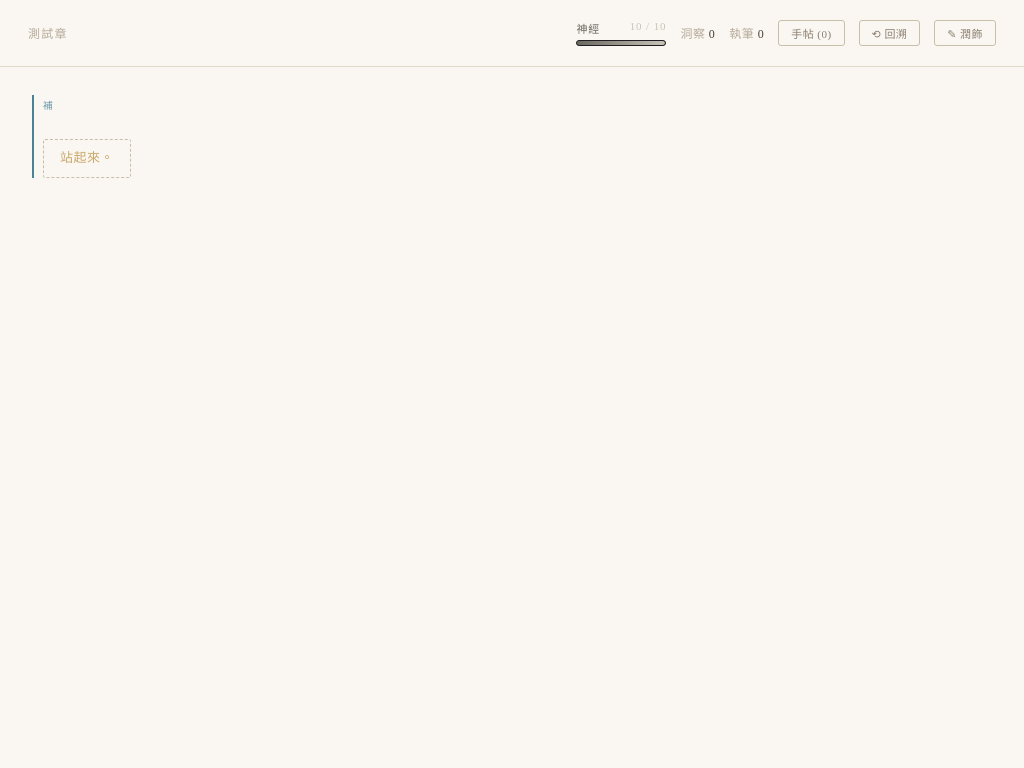
Test: HagurumaEngine — editMode 下 action/forced 不觸發互動 (Batch F6) › editing and saving an action prompt updates the WYSIWYG display
Expected: the element showing "站起來。" is shown, [32,95,992,178]
Click the button "✎ 潤飾": (965, 33) [934,20,996,46]
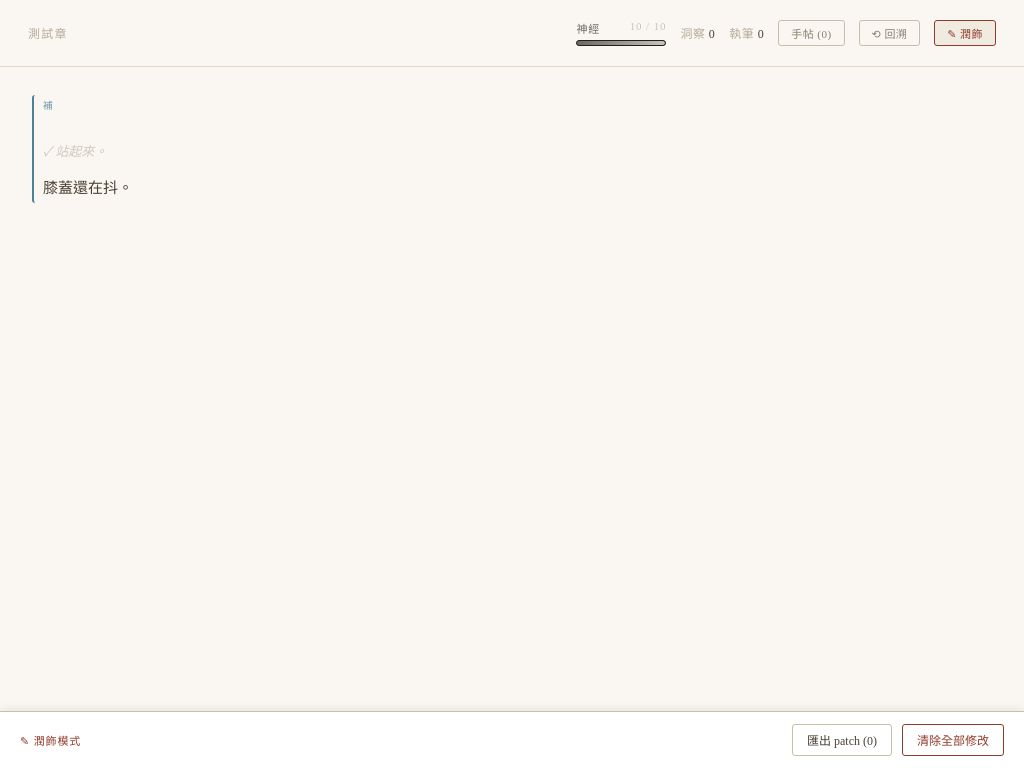
Click the element showing "✓ 站起來。 膝蓋還在抖。": (512, 149) [32,95,992,203]
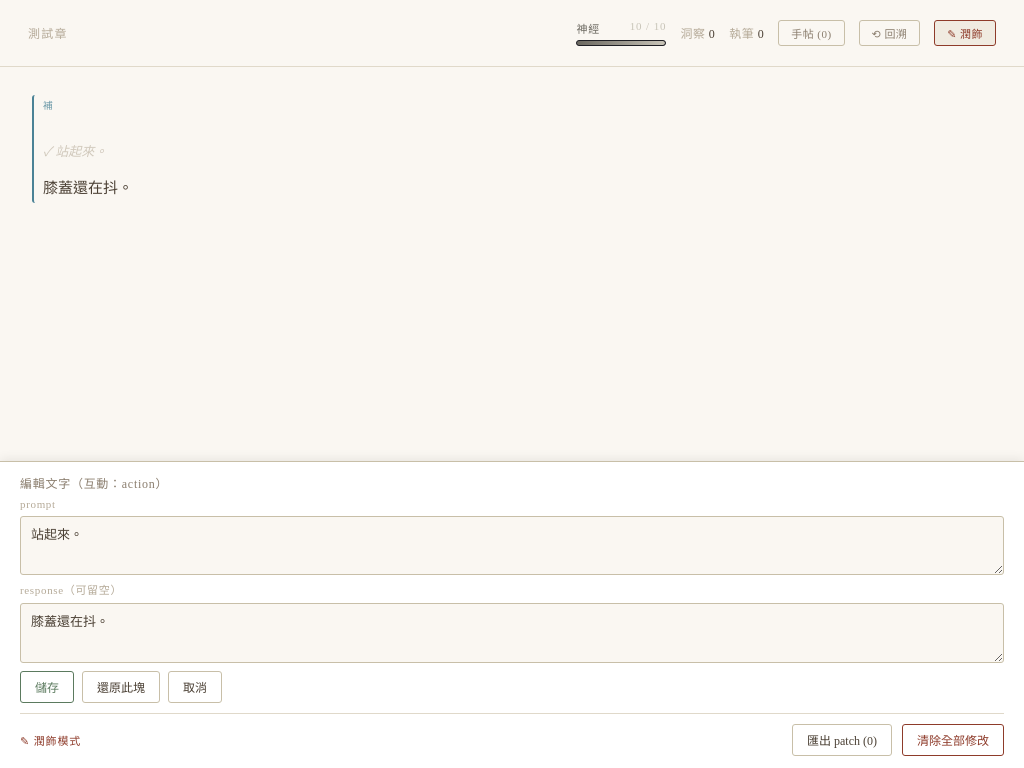
Replace the text in the text box with id "edit-panel-prompt" with "改過的指令。": (512, 546) [20,516,1004,575]
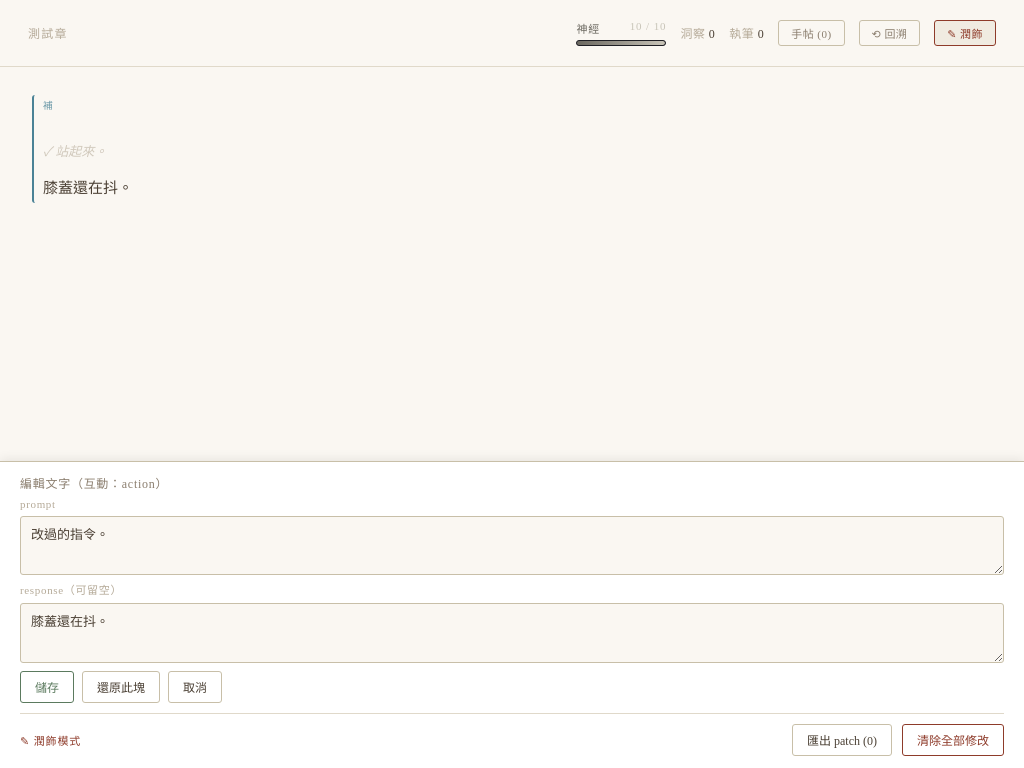
Click the button "儲存": (47, 687) [20,671,74,703]
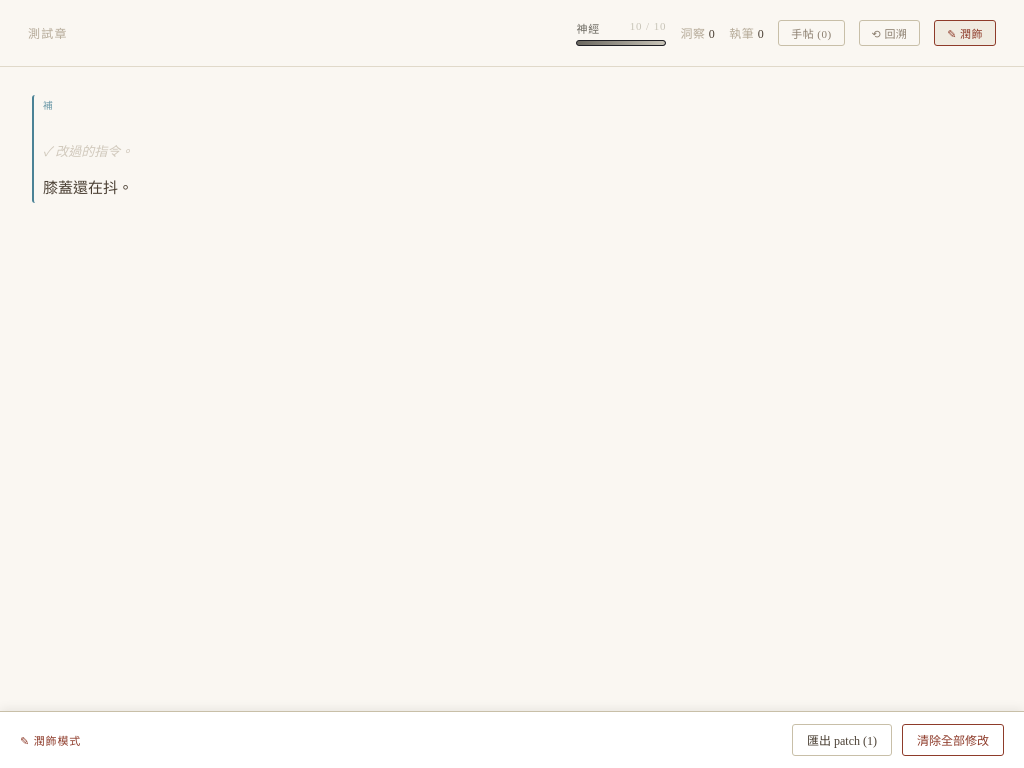
Now the text with class "action-prompt-done" reads "✓ 改過的指令。", box [43,144,133,159]
